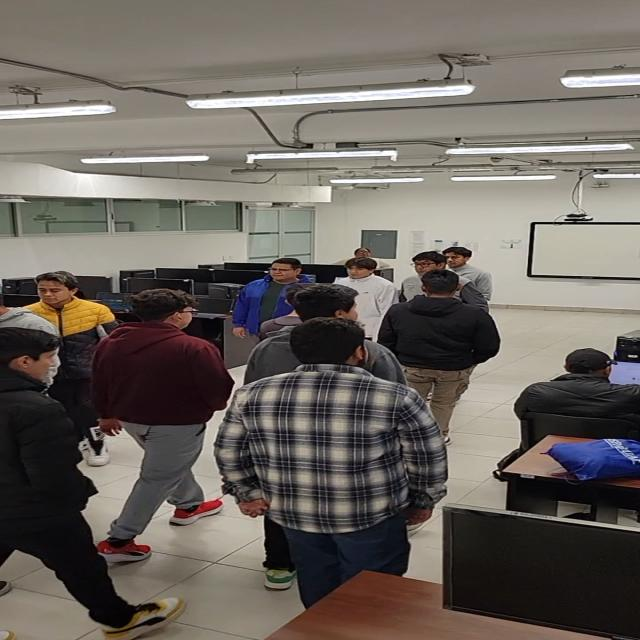Persona: (242, 323, 444, 552), (3, 327, 120, 622), (118, 283, 234, 577), (403, 276, 494, 440), (18, 272, 122, 327), (234, 250, 318, 318), (344, 257, 389, 293), (406, 252, 466, 276)
